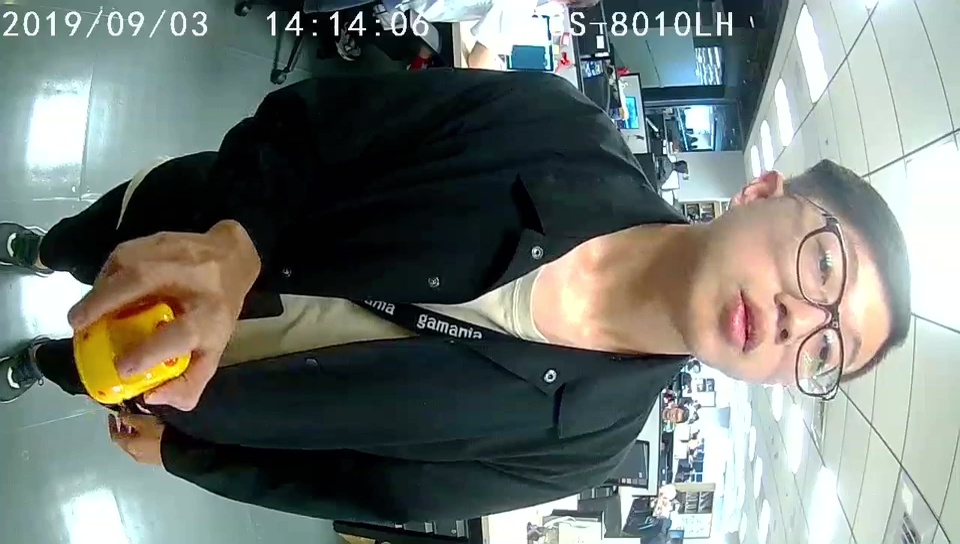car: (73, 297, 193, 406)
